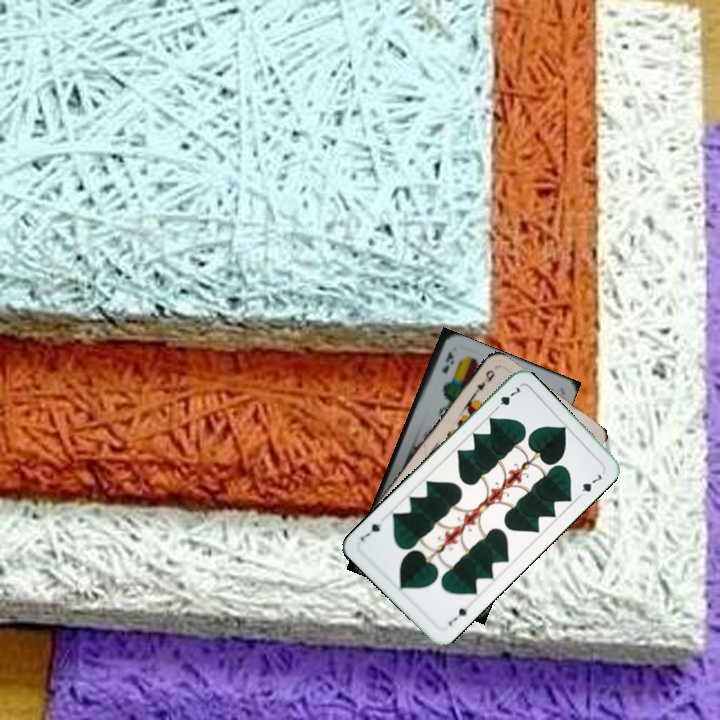E9: (469, 366, 497, 399)
EK: (437, 347, 456, 376)
G7: (490, 383, 524, 414), (444, 604, 470, 628)
